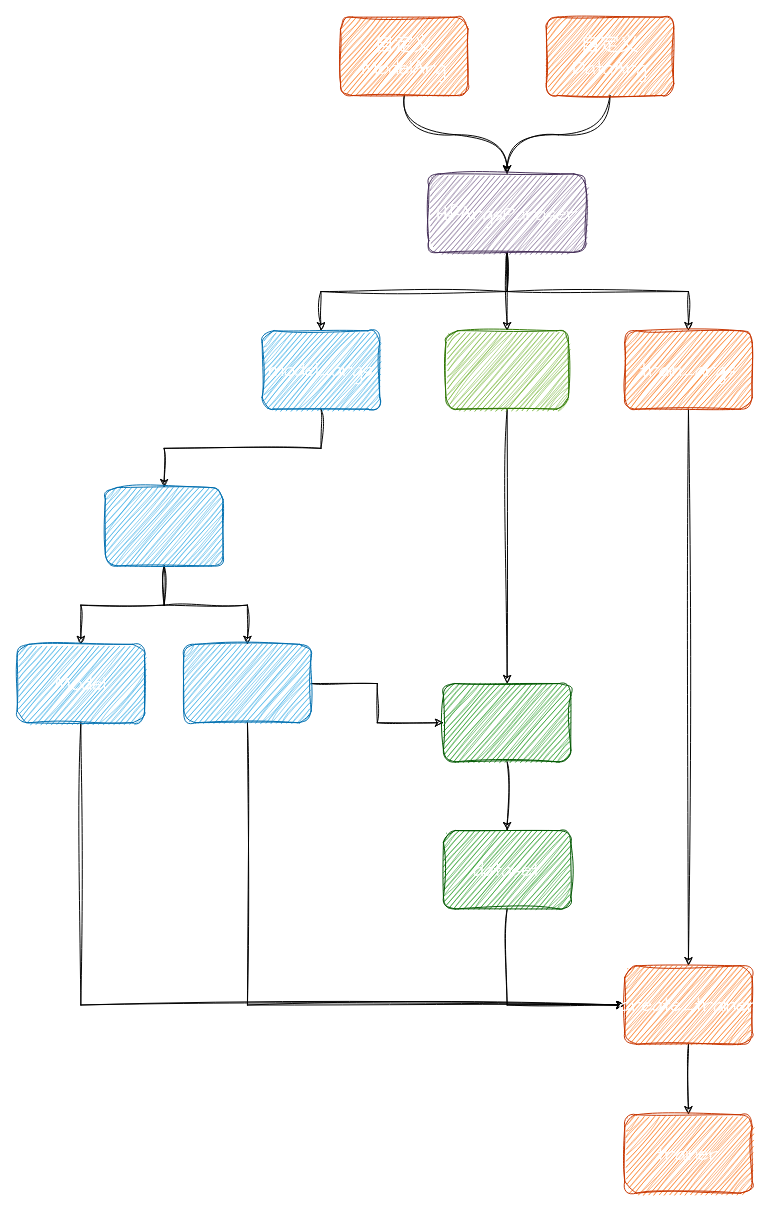
This 775x1210 diagram has some shape labels left out. The centre of each missing label's shape, as x and y in pixels:
"create_dataset" goes at point 506,722.
"create_model" goes at point 163,526.
"data_args" goes at point 506,369.
"Tokenizer" goes at point 247,683.
